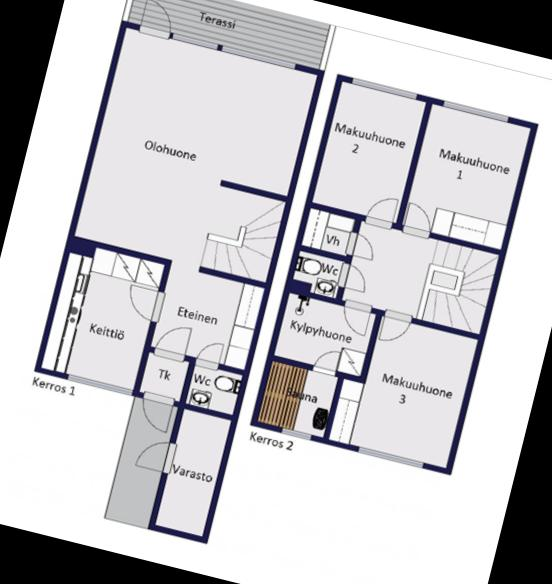door: (121, 280, 169, 325), (150, 318, 196, 364), (132, 434, 180, 478), (133, 389, 179, 434), (132, 0, 181, 41), (376, 307, 418, 352), (336, 295, 376, 339), (362, 190, 402, 230), (401, 200, 440, 239), (341, 229, 381, 265), (334, 260, 372, 296), (192, 335, 226, 373), (309, 343, 342, 376)
window: (344, 72, 424, 106), (218, 41, 300, 74), (437, 96, 514, 130), (352, 442, 430, 473), (64, 370, 138, 402), (168, 29, 224, 58), (275, 423, 317, 446)
